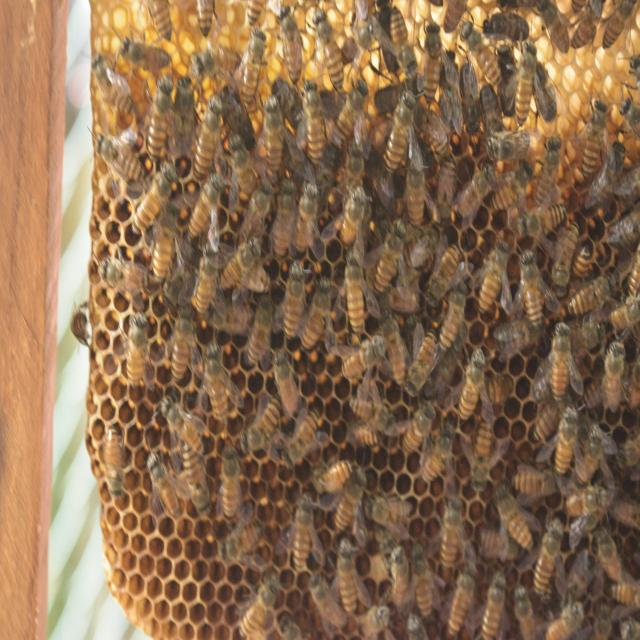honeybee: (130, 159, 179, 239), (89, 127, 144, 186), (95, 253, 158, 304), (532, 511, 572, 588), (281, 398, 328, 463), (329, 76, 369, 152), (312, 5, 346, 91), (236, 577, 282, 640), (589, 134, 627, 210), (476, 236, 510, 319), (216, 236, 265, 293), (390, 4, 424, 85), (144, 74, 176, 159), (158, 394, 208, 448), (423, 236, 459, 311), (490, 488, 540, 542), (187, 171, 225, 242), (192, 93, 224, 177), (339, 329, 385, 387), (379, 306, 410, 392), (443, 560, 480, 632), (201, 341, 233, 424), (91, 52, 136, 110), (300, 270, 333, 349), (148, 447, 182, 523), (376, 217, 410, 293), (298, 71, 327, 160), (529, 384, 571, 445), (274, 3, 304, 88), (566, 263, 620, 310), (385, 94, 417, 173), (212, 519, 268, 564), (404, 328, 440, 398), (474, 572, 512, 638), (508, 450, 560, 498), (409, 538, 438, 622), (333, 535, 363, 616), (116, 31, 172, 74), (260, 91, 288, 177), (166, 304, 195, 386), (310, 573, 348, 635), (441, 272, 471, 350), (457, 162, 496, 220), (268, 347, 300, 417), (183, 445, 214, 517), (291, 490, 317, 575), (535, 0, 573, 58), (192, 242, 220, 320), (460, 345, 488, 423), (514, 38, 538, 128), (493, 313, 542, 357), (467, 422, 496, 496), (402, 399, 444, 450), (282, 260, 310, 336), (243, 295, 273, 365), (438, 488, 462, 573), (243, 395, 280, 450), (329, 477, 364, 535), (339, 180, 368, 250), (240, 27, 266, 105), (102, 422, 128, 500), (386, 538, 412, 616), (600, 0, 638, 53), (124, 306, 149, 386), (519, 247, 544, 327), (420, 428, 457, 482), (575, 418, 606, 482), (272, 178, 296, 260), (241, 176, 273, 237), (552, 223, 582, 288), (594, 520, 625, 582), (226, 130, 258, 190), (433, 148, 460, 218), (349, 394, 400, 431), (293, 176, 321, 243), (536, 133, 564, 200), (344, 250, 368, 328), (509, 580, 540, 640), (310, 452, 360, 489), (546, 596, 588, 640), (582, 94, 604, 178), (605, 336, 627, 419), (478, 525, 522, 566), (517, 202, 567, 238), (422, 15, 442, 104), (218, 446, 242, 518), (550, 322, 572, 399), (151, 217, 175, 287), (478, 13, 530, 45), (570, 0, 600, 55), (563, 484, 611, 518), (610, 204, 640, 256), (406, 154, 427, 228), (559, 404, 579, 481), (358, 603, 398, 640), (606, 574, 640, 613), (147, 0, 177, 44), (605, 301, 640, 335), (192, 0, 217, 36), (241, 0, 265, 31)
